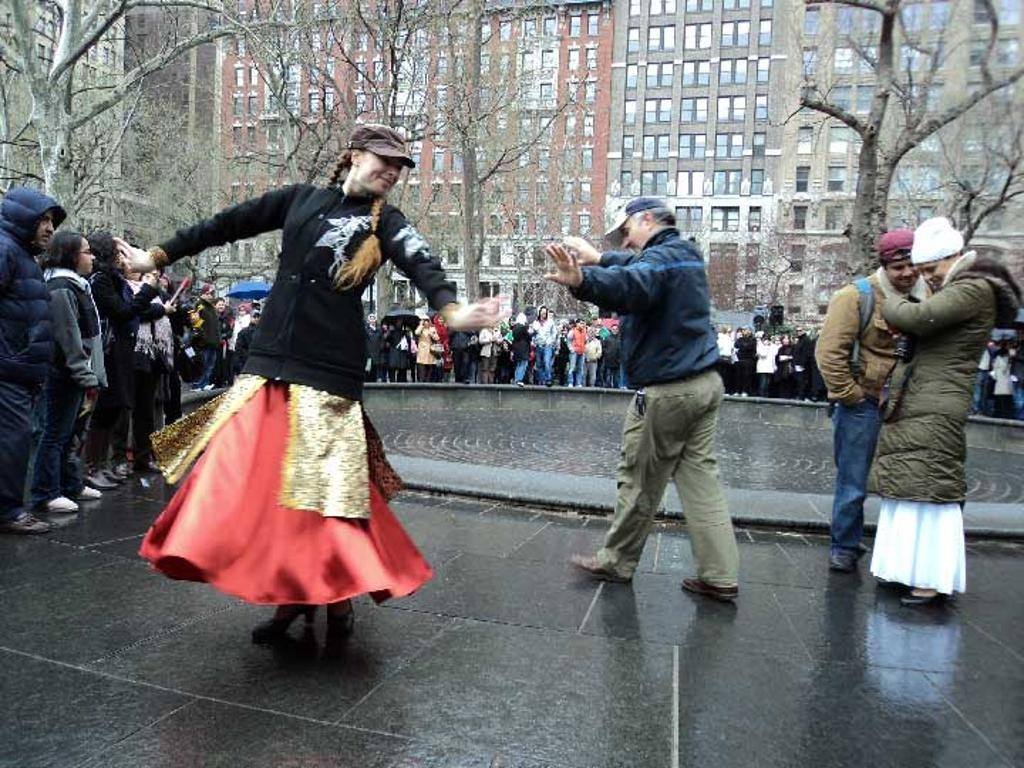human_face: (360, 146, 402, 196), (916, 255, 950, 291), (891, 253, 919, 287), (623, 216, 649, 252), (28, 210, 54, 244), (72, 244, 94, 272), (156, 280, 168, 294), (250, 313, 260, 323), (216, 300, 224, 312), (576, 321, 584, 329), (238, 306, 244, 314), (437, 316, 443, 324), (540, 308, 546, 316), (762, 336, 768, 344), (782, 337, 788, 345), (369, 316, 375, 322), (612, 326, 618, 332), (595, 328, 601, 334), (509, 320, 515, 326)
